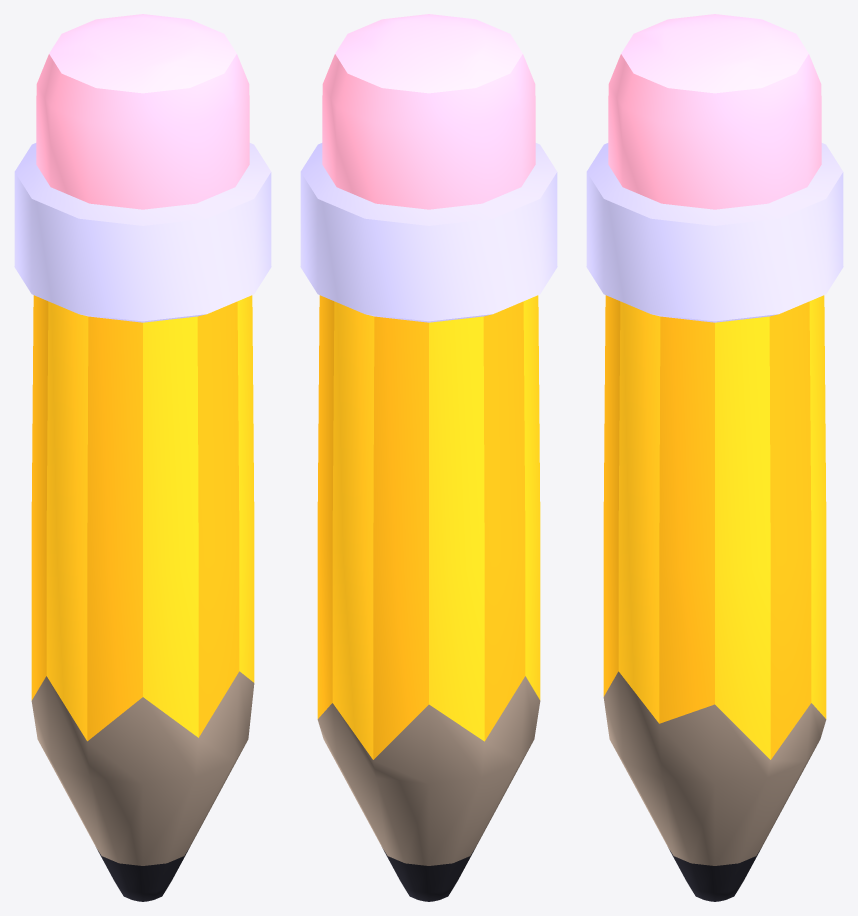
File: pencils.fbx
3 views of the same model, side by side, from view 1: azimuth 30°, elevation 25°; view 2: azimuth 150°, elevation 25°; view 3: azimuth 270°, elevation 25° (orthographic).
Visible parts, largest first — view 1: Pencil; view 2: Pencil; view 3: Pencil.
Boxes of the visible parts, <box> form: Pencil: <box>14,14,271,901</box>; Pencil: <box>300,14,557,901</box>; Pencil: <box>586,14,843,901</box>.
Size of the model in its own units: 8.84 by 32.45 by 8.84.
